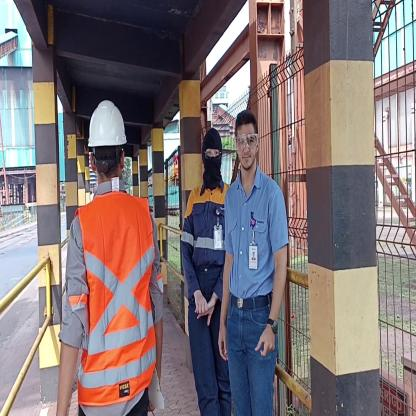Balaclava: (200, 126, 222, 184)
Capacete: (86, 96, 127, 147)
Operacional: (181, 188, 226, 264)
colete: (72, 197, 158, 392)
